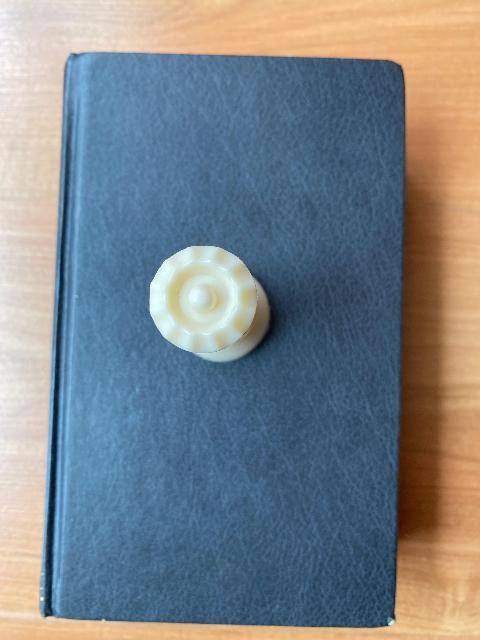white-queen: (148, 244, 270, 362)
